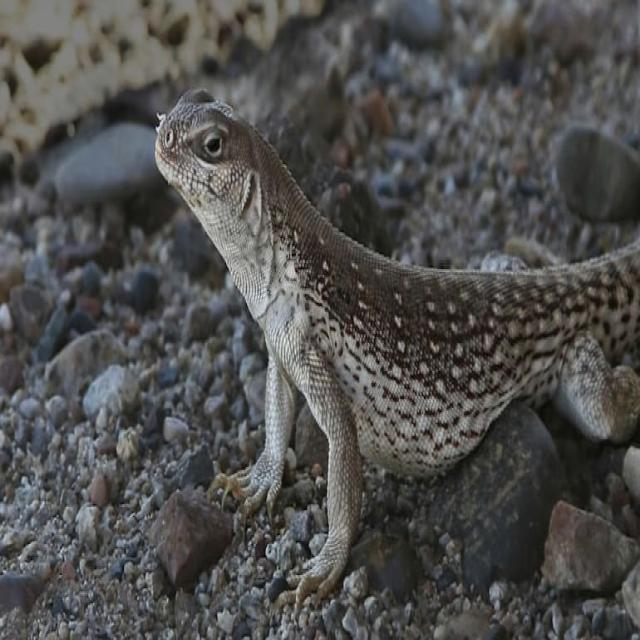lizard: (155, 89, 639, 600)
